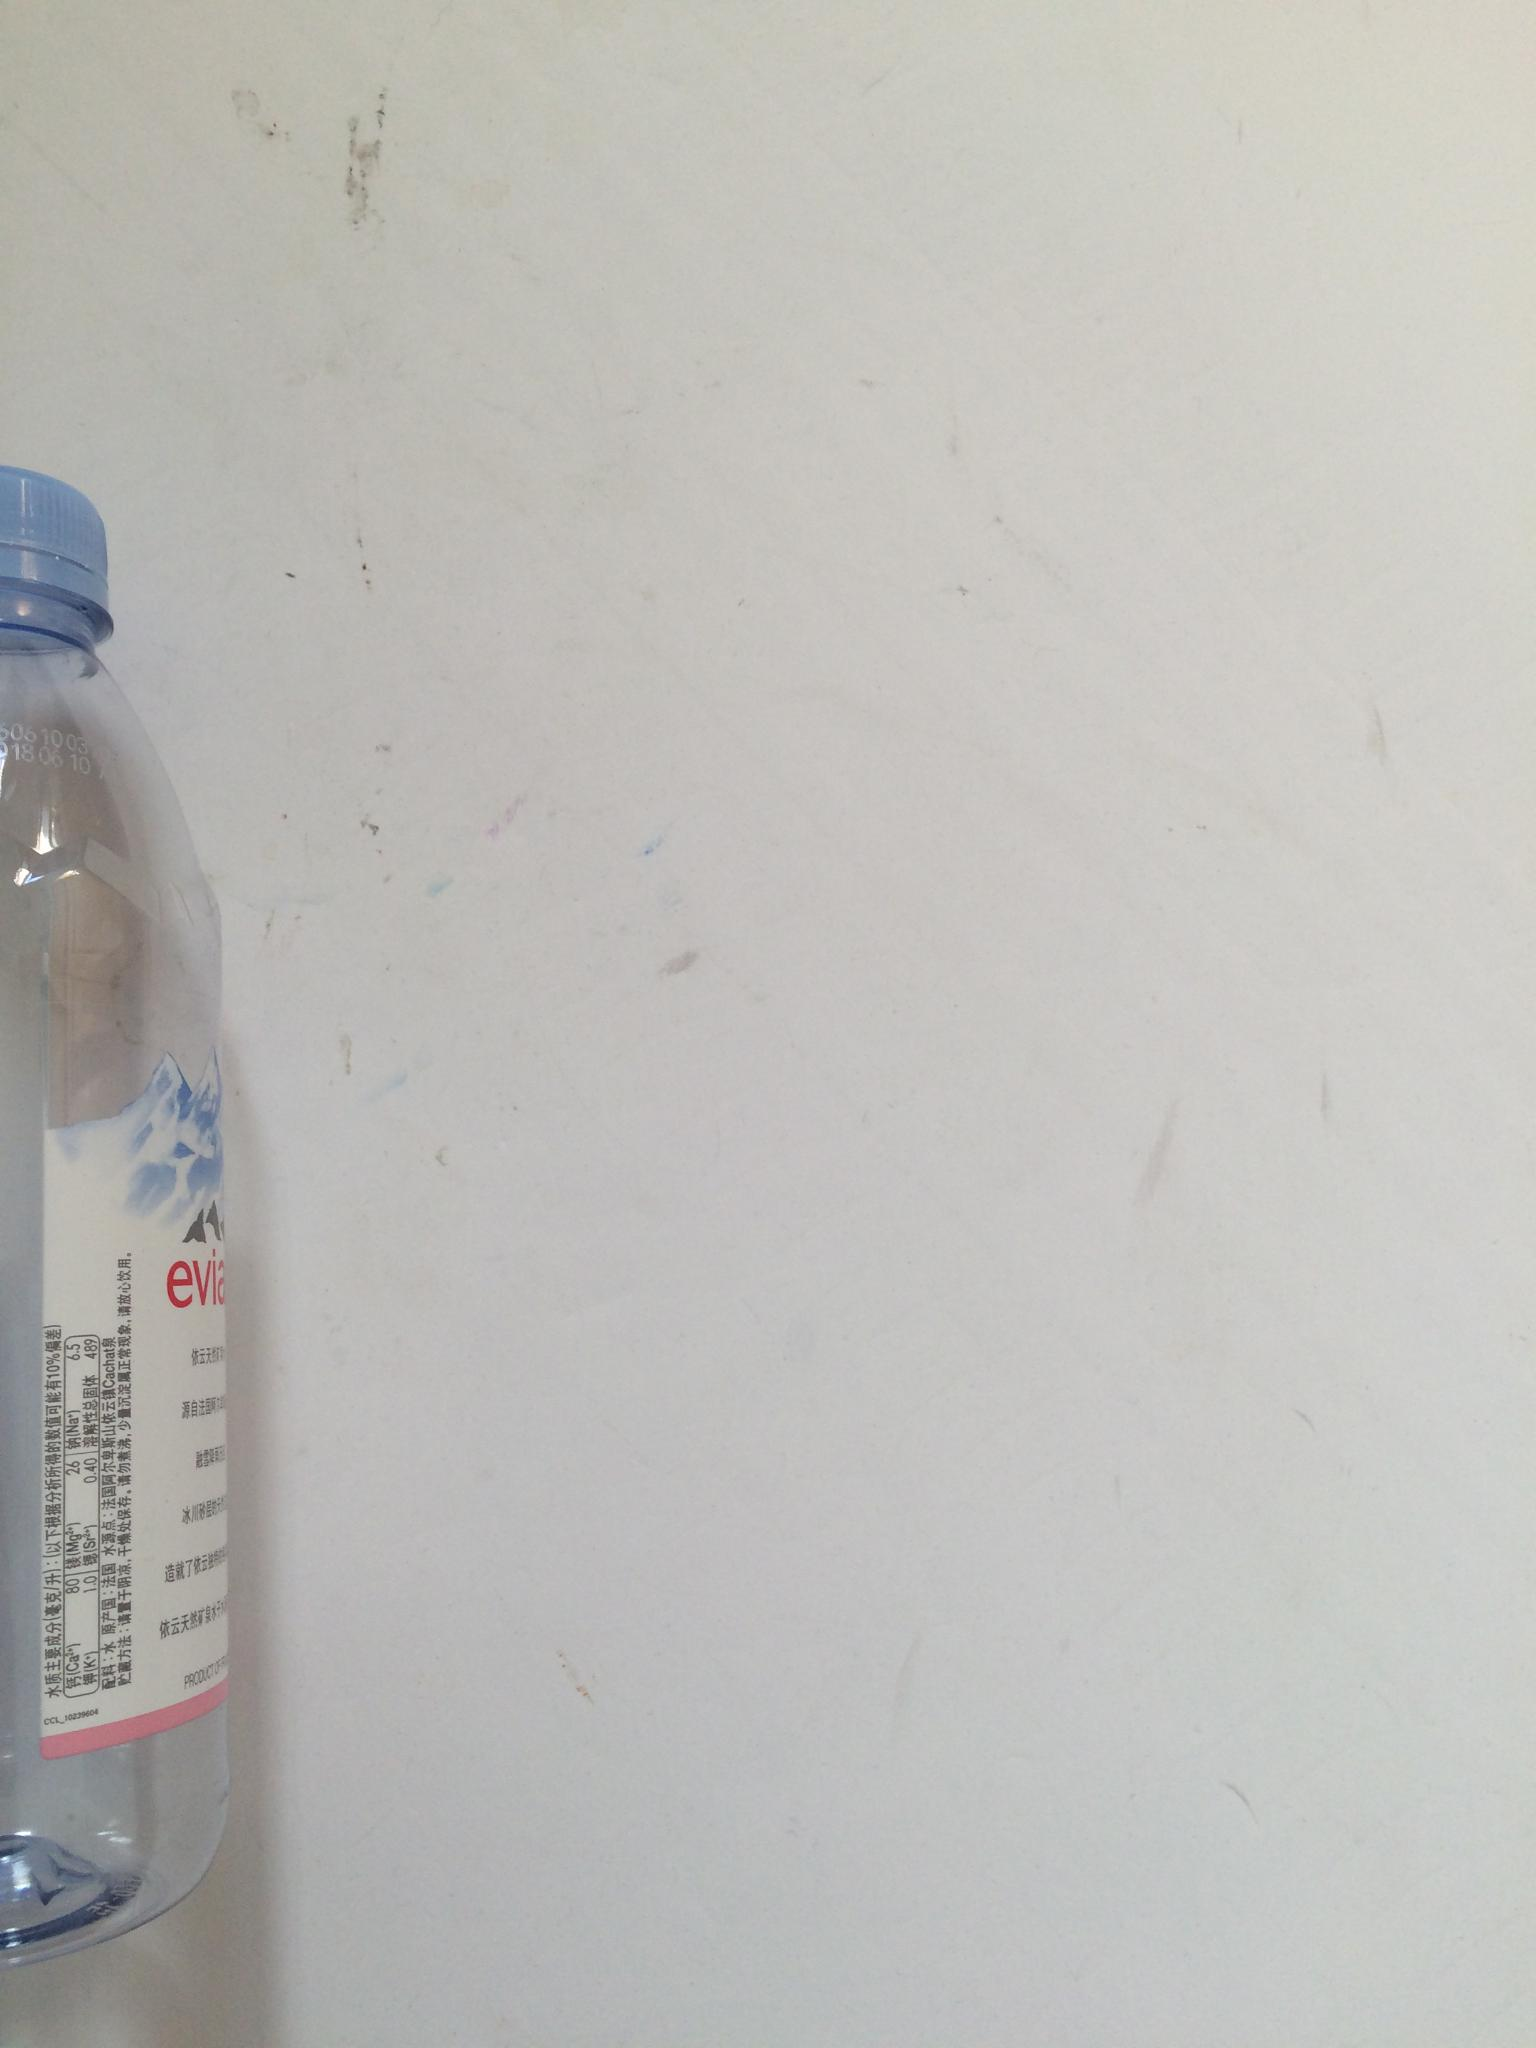Plastic: (2, 398, 261, 1975)
